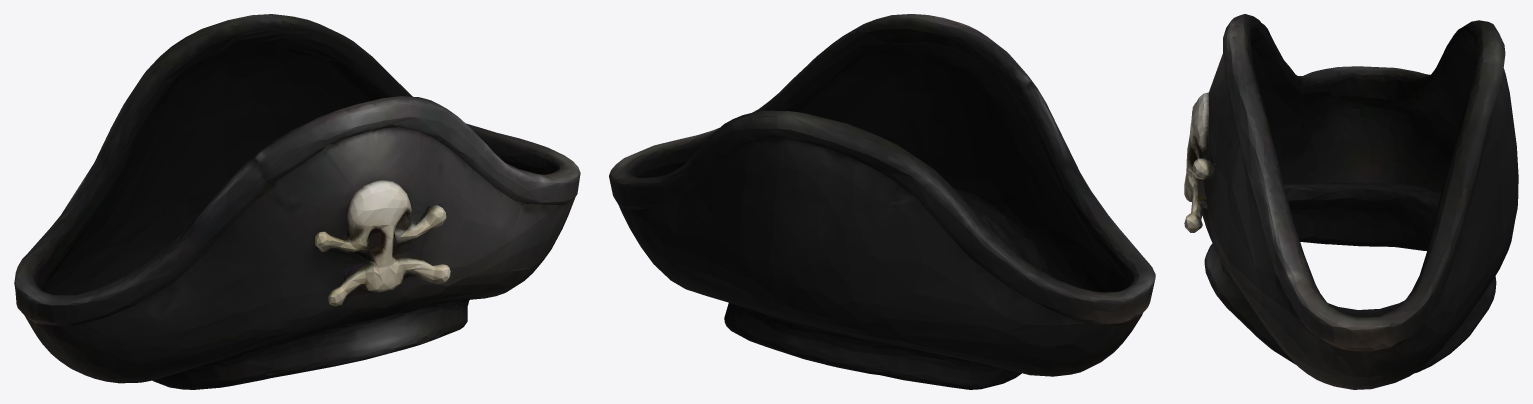
The model's file is pirate_tricorn.glb.
The picture shows the model from 3 angles, left to right: view 1: azimuth 30°, elevation 25°; view 2: azimuth 150°, elevation 25°; view 3: azimuth 270°, elevation 25°; orthographic projection. The views are drawn at different scales.
Parts seen in each view (by area): view 1: geometry_0; view 2: geometry_0; view 3: geometry_0.
Boxes of the visible parts, box(x1,y1,x2,y2) form: geometry_0: box(14, 14, 580, 389); geometry_0: box(609, 14, 1155, 389); geometry_0: box(1184, 14, 1518, 389).
Size of the model in its own units: 0.55 by 0.2761 by 0.2954.
Materials: 1 (1 with a texture image).
